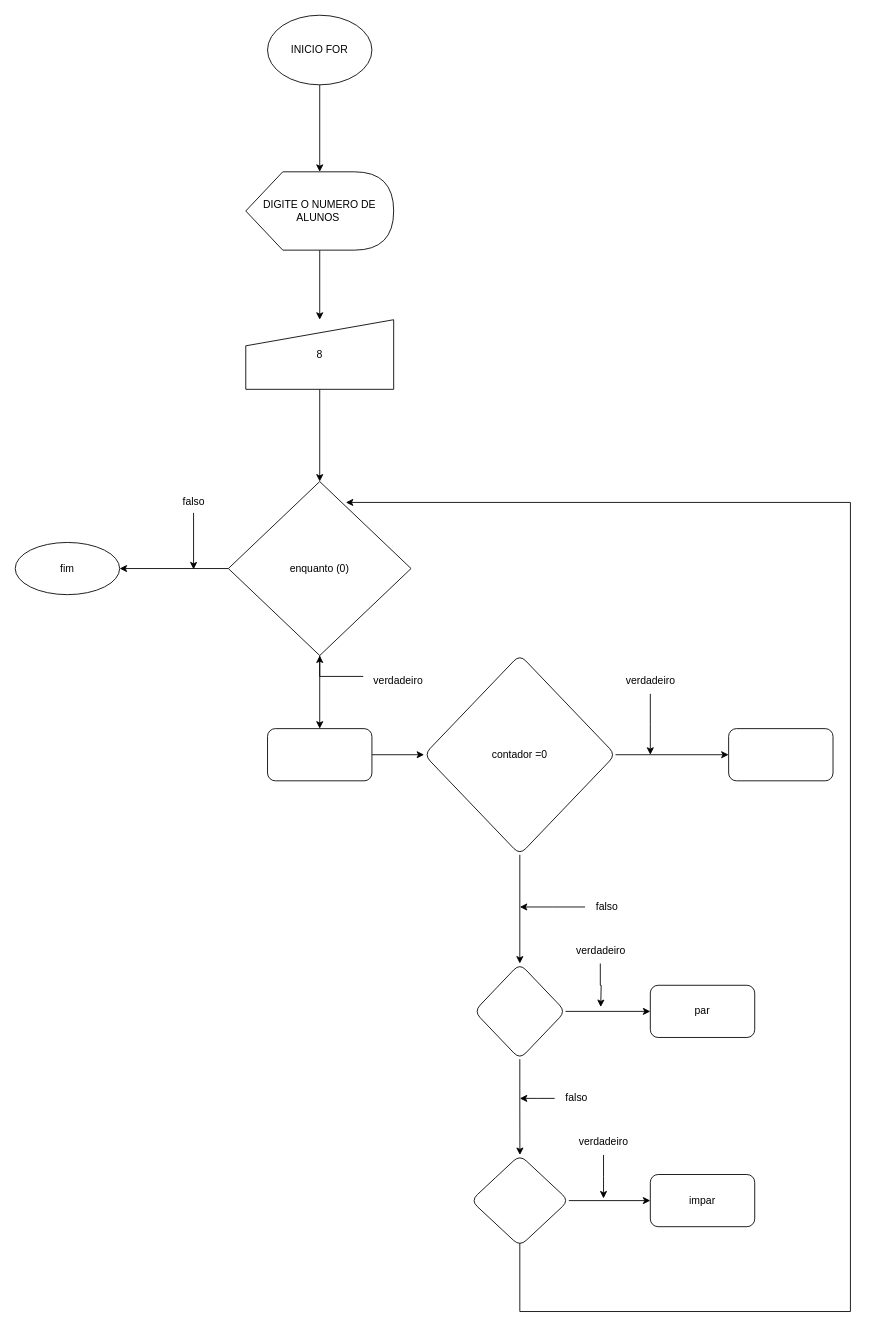
Some shapes in this 873 by 1334 pixel diagram are drawn without their labels. The centre of each missing label's shape, as x and y in pixels:
contador % 2 =0: point 519,1011
contador % 2 =1: point 519,1200
contador++: point 319,754
ZERO: point 780,754
